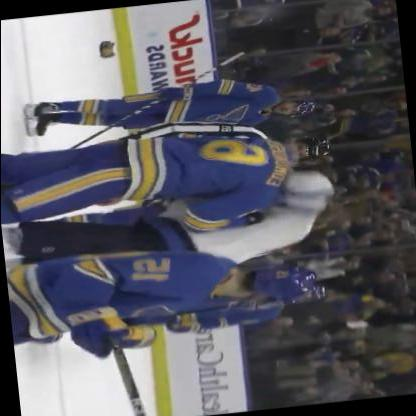non-Voilence: (6, 235, 318, 356), (22, 70, 320, 148)
voilence: (87, 117, 348, 279)
